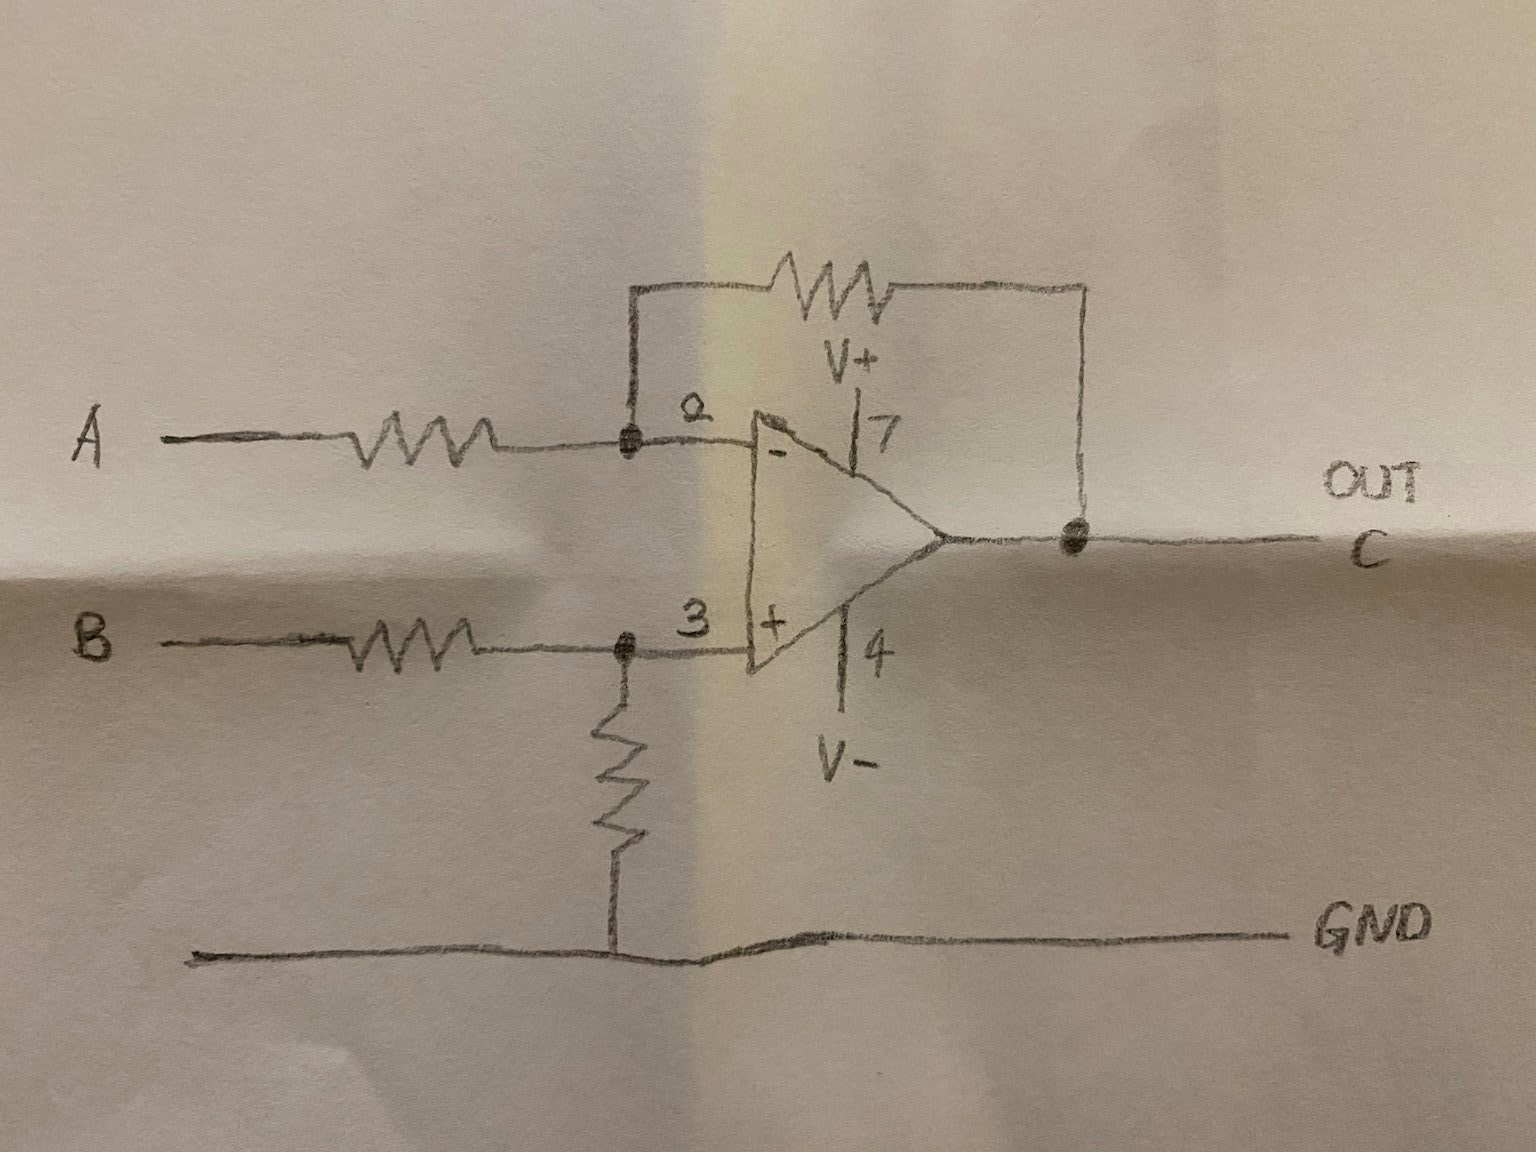junction: (1035, 502, 1120, 571), (597, 257, 669, 327), (589, 408, 656, 476), (579, 922, 645, 991), (593, 618, 660, 676), (1049, 267, 1102, 326)
operational_amplifier: (731, 396, 970, 699)
resistor: (330, 610, 497, 693), (752, 243, 910, 328), (333, 407, 507, 482), (588, 695, 663, 863)
terminal: (163, 929, 252, 984), (1272, 518, 1341, 559), (144, 624, 216, 662), (143, 419, 212, 457), (1245, 918, 1306, 954)
text: (1307, 894, 1436, 960), (1317, 449, 1430, 511), (67, 397, 115, 476), (67, 604, 119, 672), (1345, 518, 1399, 580), (671, 594, 714, 643), (861, 624, 897, 679), (675, 387, 722, 428), (867, 408, 908, 455), (813, 728, 845, 788), (818, 334, 853, 386), (755, 600, 790, 638), (850, 747, 889, 781), (854, 344, 887, 378), (764, 442, 792, 470)
